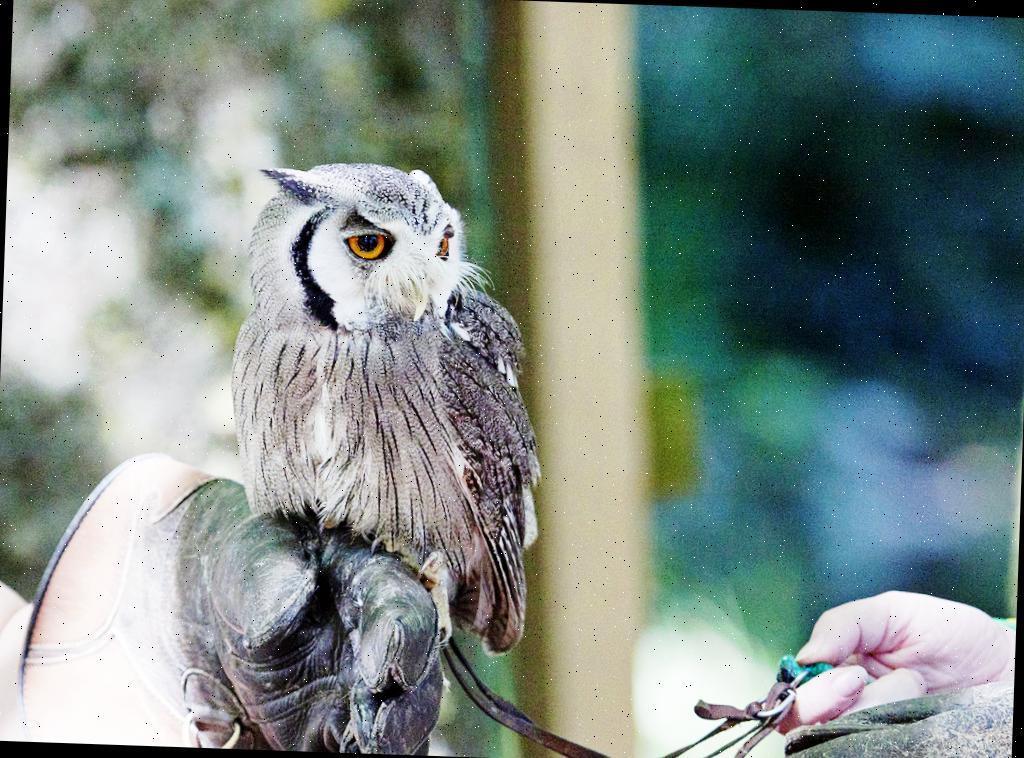Owl: (220, 157, 554, 656)
